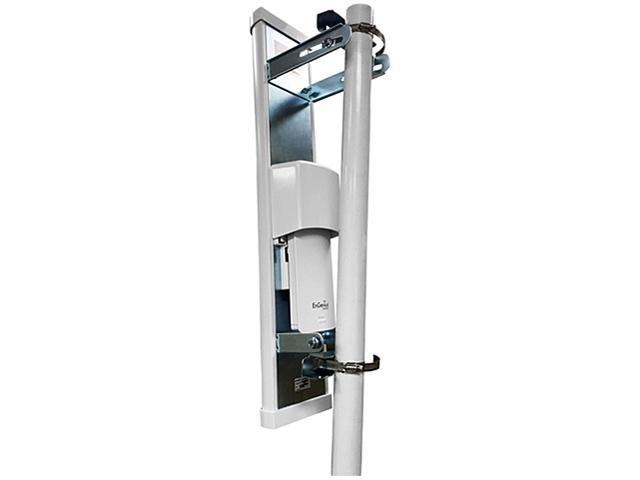sa: (231, 15, 414, 465)
